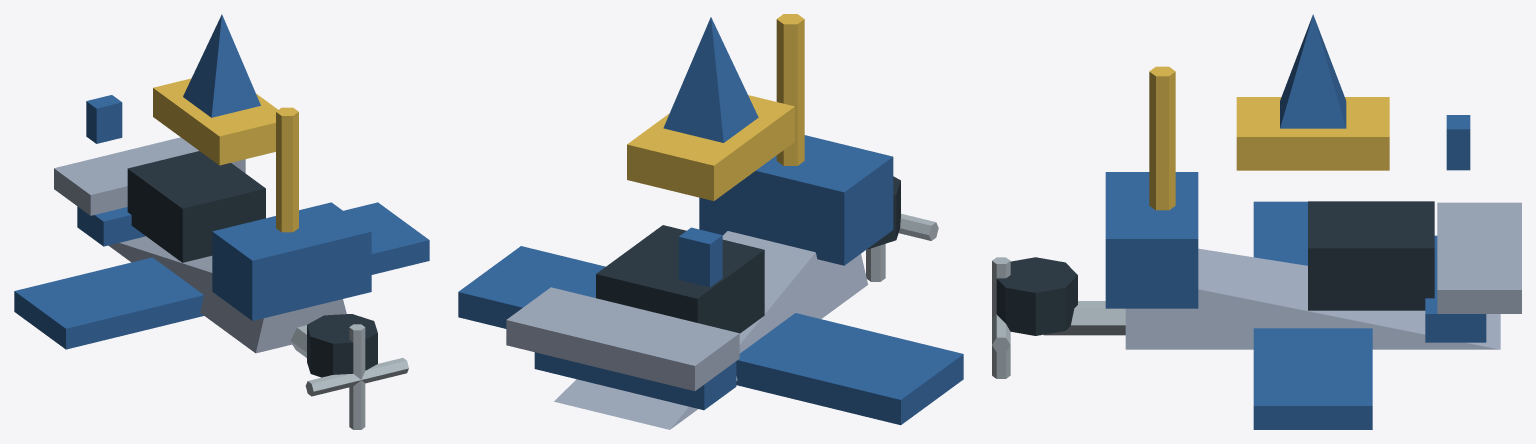
File: scout-aircraft.obj
3 views of the same model, side by side, from view 1: azimuth 30°, elevation 25°; view 2: azimuth 150°, elevation 25°; view 3: azimuth 270°, elevation 25° (orthographic). The views are drawn at different scales.
Parts seen in each view (by area): view 1: air; view 2: air; view 3: air.
Boxes of the visible parts, x1,y1,x2,y2 form: air: (14,14,429,429); air: (458,14,963,429); air: (992,14,1521,429).
Size of the model in its own units: 1.83 by 1.51 by 2.01.
